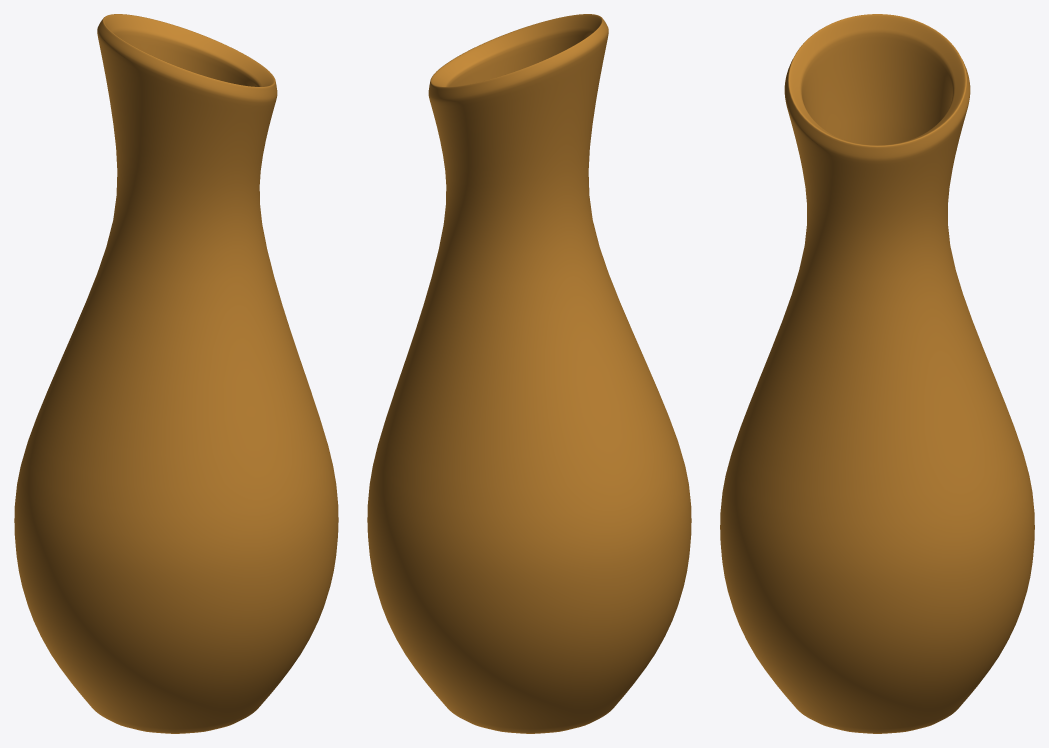
The model's file is vase.fbx.
The picture shows the model from 3 angles, left to right: view 1: azimuth 30°, elevation 25°; view 2: azimuth 150°, elevation 25°; view 3: azimuth 270°, elevation 25°; orthographic projection. The views are drawn at different scales.
Visible parts, largest first — view 1: uploads_files_62426_3; view 2: uploads_files_62426_3; view 3: uploads_files_62426_3.
Boxes of the visible parts, bbox=[...] form: uploads_files_62426_3: bbox=[14, 14, 338, 733]; uploads_files_62426_3: bbox=[367, 14, 691, 733]; uploads_files_62426_3: bbox=[720, 14, 1034, 733].
Size of the model in its own units: 15264 by 35285 by 15263.
